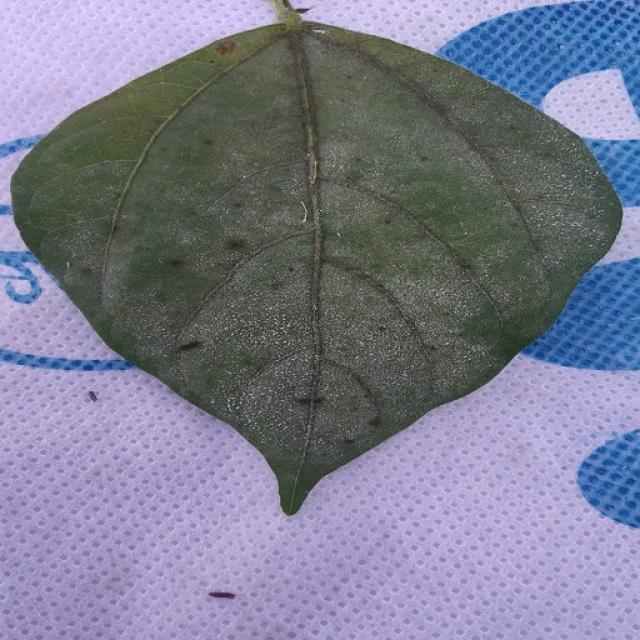Blackgram: (11, 22, 620, 512)
Powdery_Mildew: (313, 257, 439, 369), (41, 190, 139, 312), (239, 342, 340, 450), (189, 169, 314, 249), (233, 365, 298, 428)
